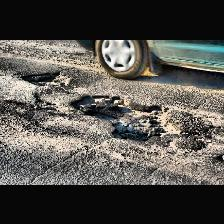pothole: (70, 92, 180, 142), (20, 70, 70, 84)
